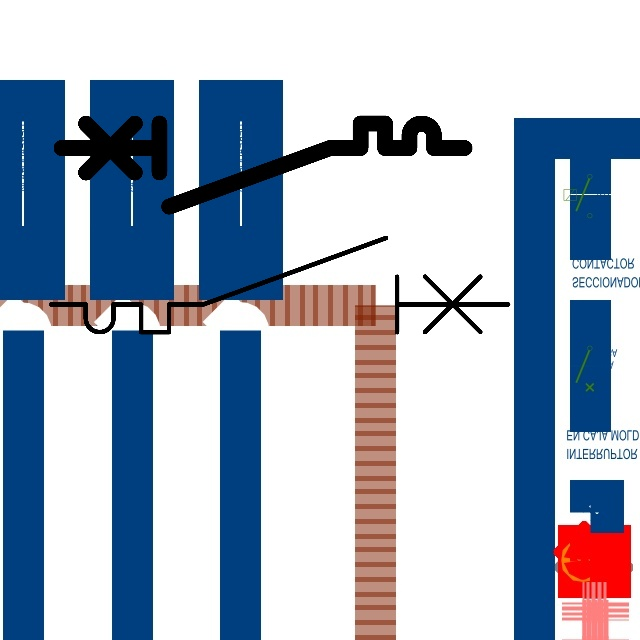interruptor_termomagnetico: (39, 226, 520, 344), (51, 113, 475, 216)
